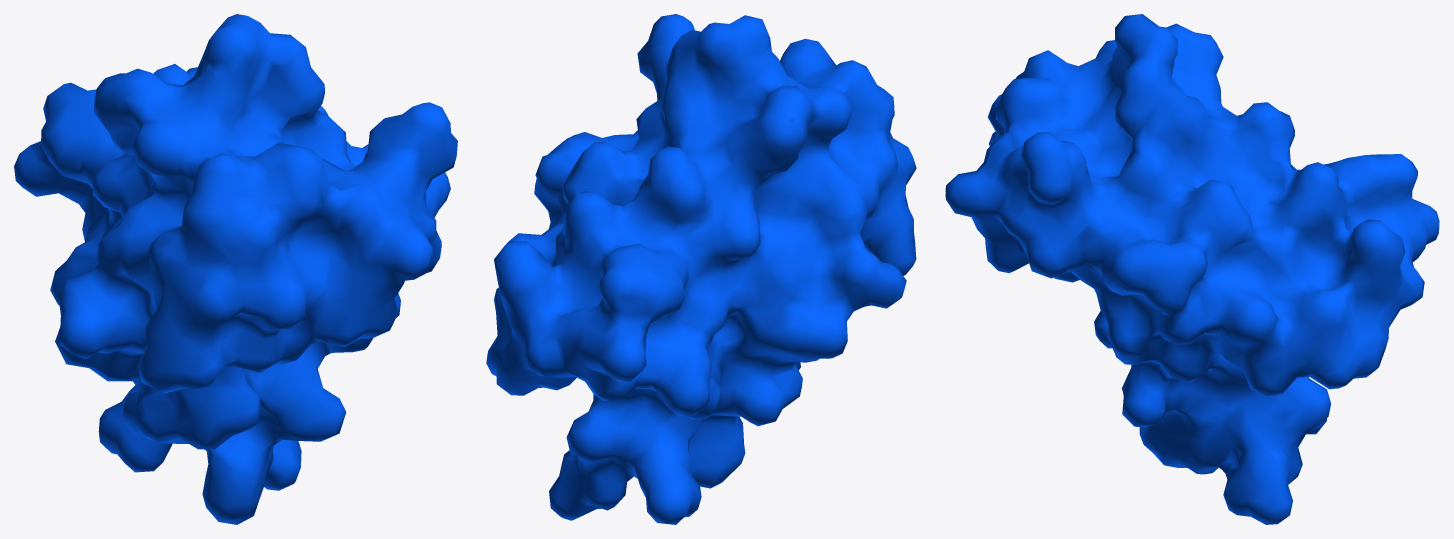
Rendered from vaccine_molecular_downsampled.obj.
3 views of the same model, side by side, from view 1: azimuth 30°, elevation 25°; view 2: azimuth 150°, elevation 25°; view 3: azimuth 270°, elevation 25° (orthographic). The views are drawn at different scales.
Parts seen in each view (by area): view 1: vaccine_molecular; view 2: vaccine_molecular; view 3: vaccine_molecular.
Part boxes in pixels (x1,y1,x2,y2): vaccine_molecular: (14, 14, 457, 524); vaccine_molecular: (486, 14, 916, 524); vaccine_molecular: (945, 14, 1439, 524).
Size of the model in its own units: 27.49 by 35.84 by 35.11.
